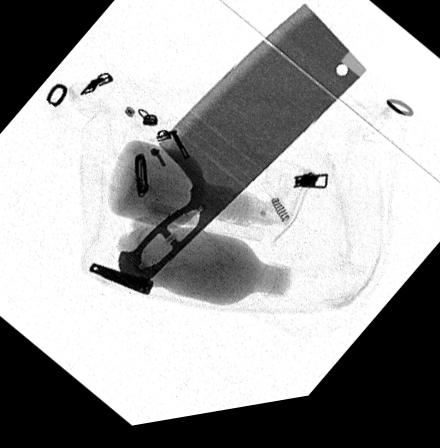Knife: (117, 14, 367, 295)
